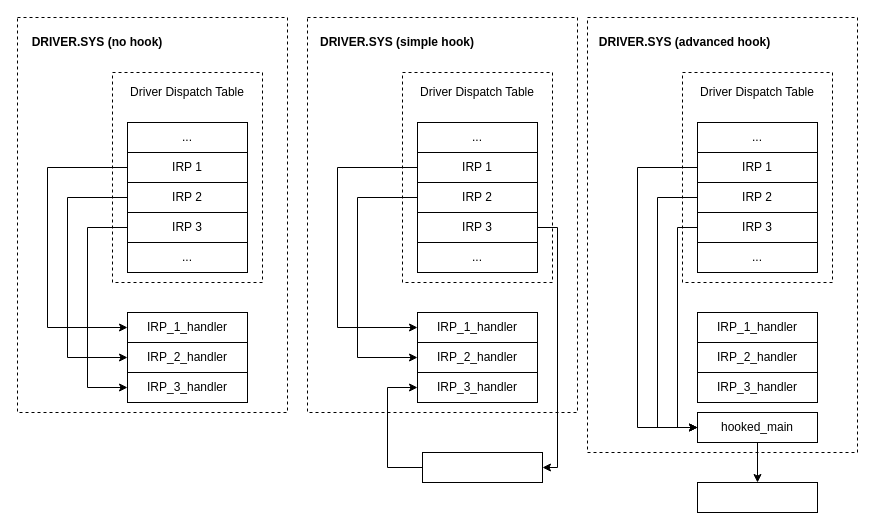
The diagram is 875 pixels wide and 530 high, and some of its shapes have lost their labels. Each missing label, with the centre of its shape:
"hooked_handler" belongs at [757,497].
"IRP_3_hooked" belongs at [482,467].
